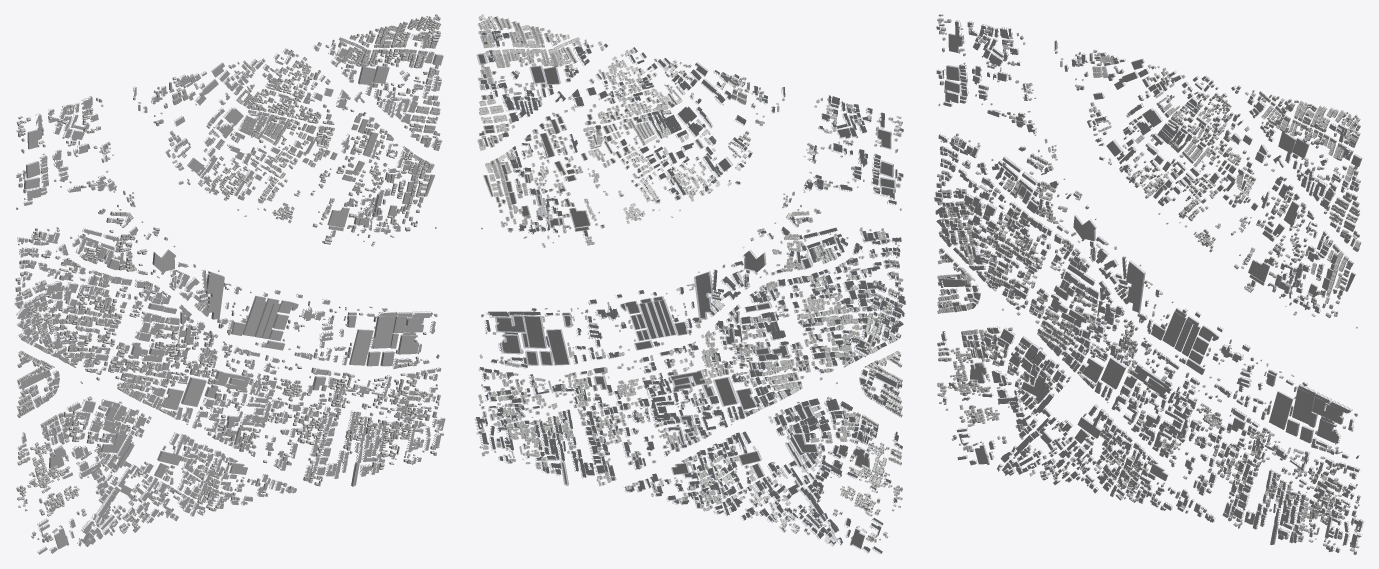
The model's file is buildings_2_4.obj.
3 views of the same model, side by side, from view 1: azimuth 30°, elevation 25°; view 2: azimuth 150°, elevation 25°; view 3: azimuth 330°, elevation 25° (orthographic).
Bounding box in the file's own units: 2037 × 2062 × 33.85.
5 materials, 5 textured.
